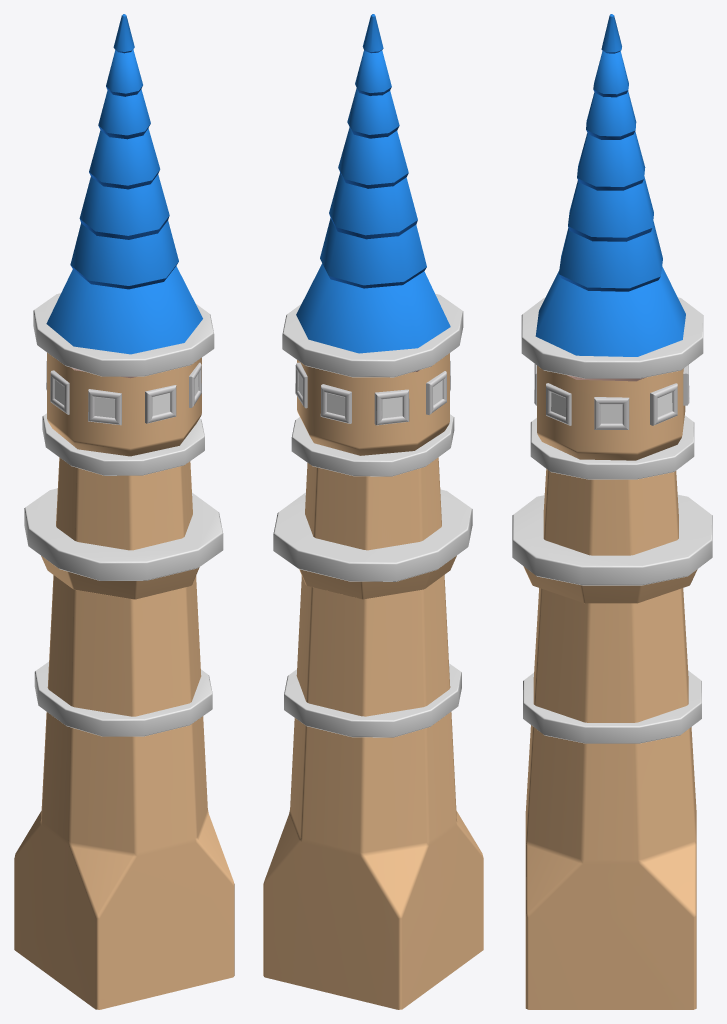
Rendered from castle_tower_009.gltf.
The picture shows the model from 3 angles, left to right: view 1: azimuth 30°, elevation 25°; view 2: azimuth 150°, elevation 25°; view 3: azimuth 270°, elevation 25°; orthographic projection.
Parts seen in each view (by area): view 1: castle_tower_009; view 2: castle_tower_009; view 3: castle_tower_009.
Part boxes in pixels (bbox=[...]): castle_tower_009: bbox=[14, 14, 234, 1009]; castle_tower_009: bbox=[263, 14, 483, 1009]; castle_tower_009: bbox=[512, 14, 712, 1009].
Bounding box in the file's own units: 2.93 × 16.52 × 3.12.
2 materials, 1 textured.
